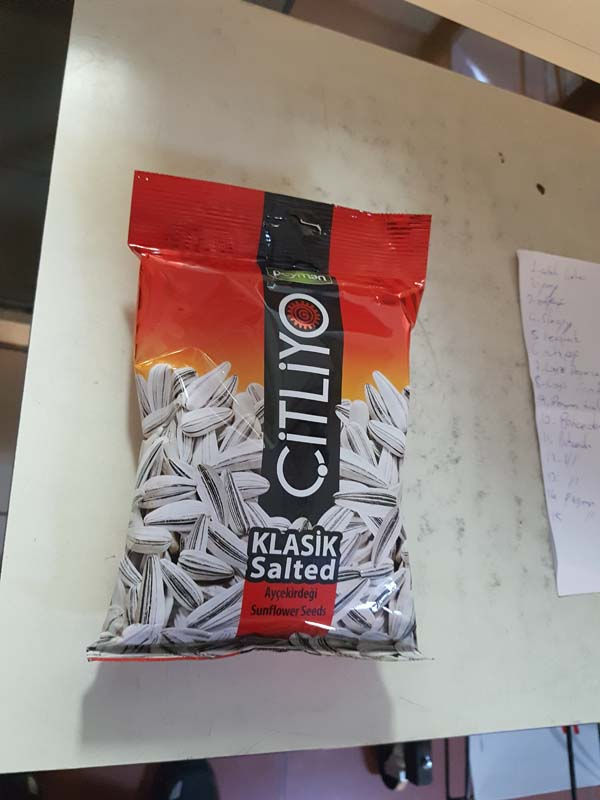citliyorklasik: (81, 161, 460, 680)
